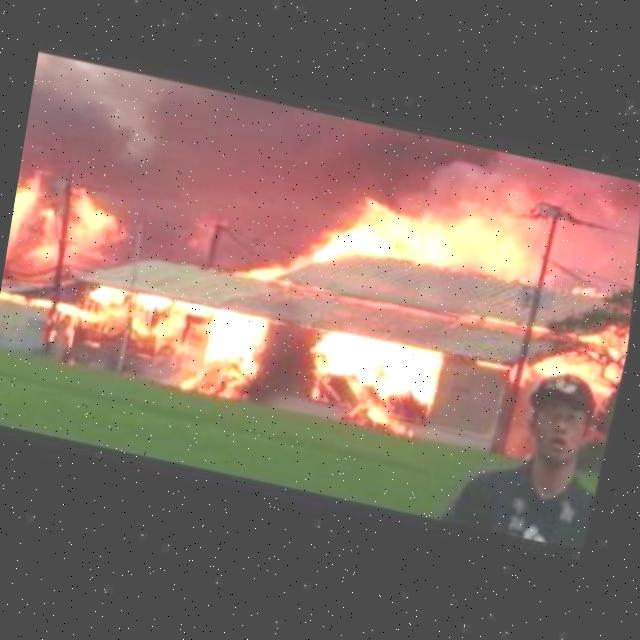fire: (303, 133, 635, 351), (51, 268, 278, 423), (0, 157, 140, 334), (290, 320, 454, 460), (236, 259, 288, 293), (569, 290, 609, 312)
